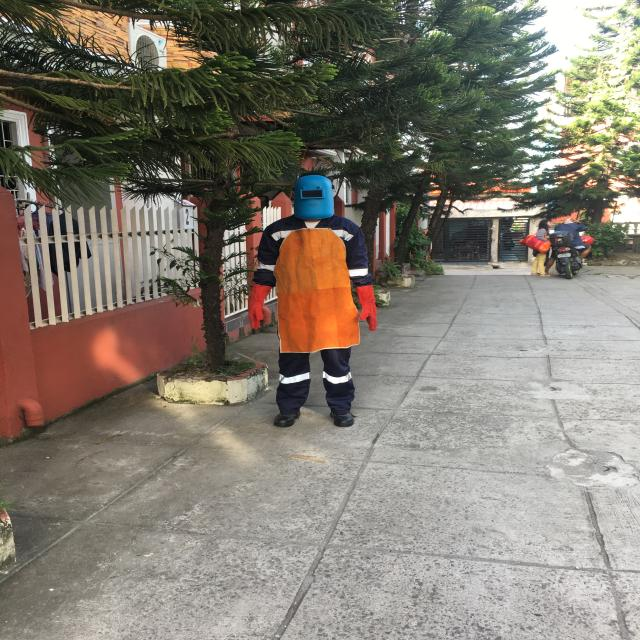with_helmet: (275, 175, 349, 222)
